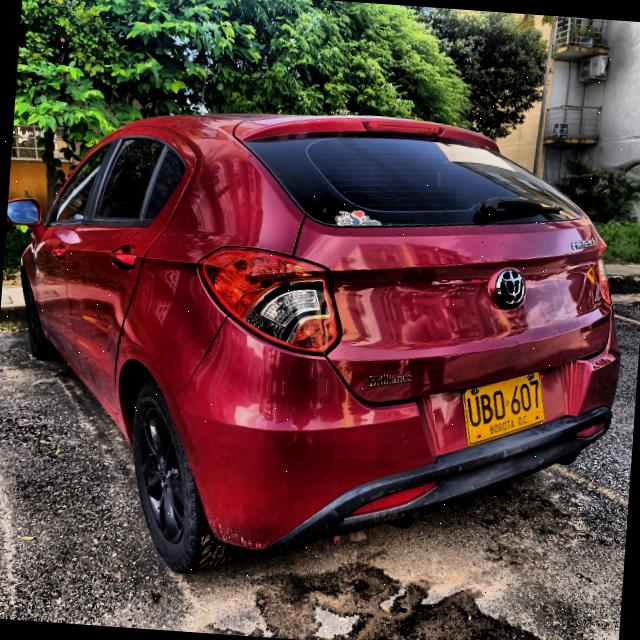0: (518, 382, 532, 413)
6: (508, 384, 522, 417)
7: (528, 379, 540, 409)
B: (479, 392, 495, 426)
O: (492, 388, 506, 422)
U: (465, 395, 482, 428)
